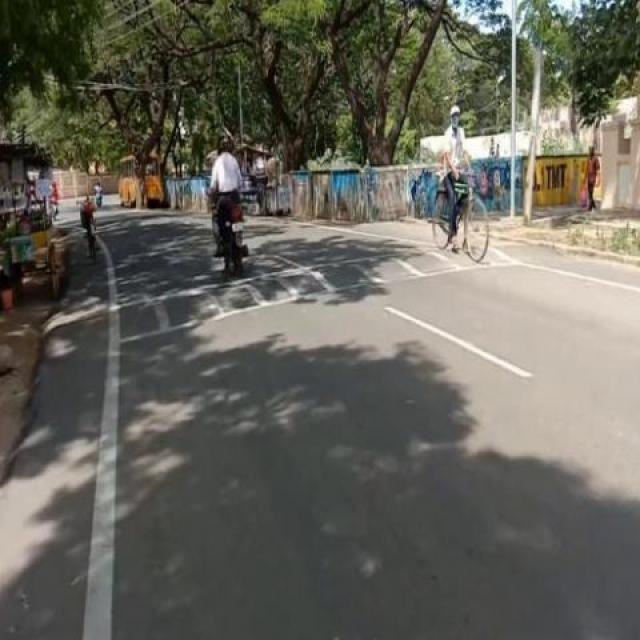Speed Bump: (49, 238, 568, 356)
